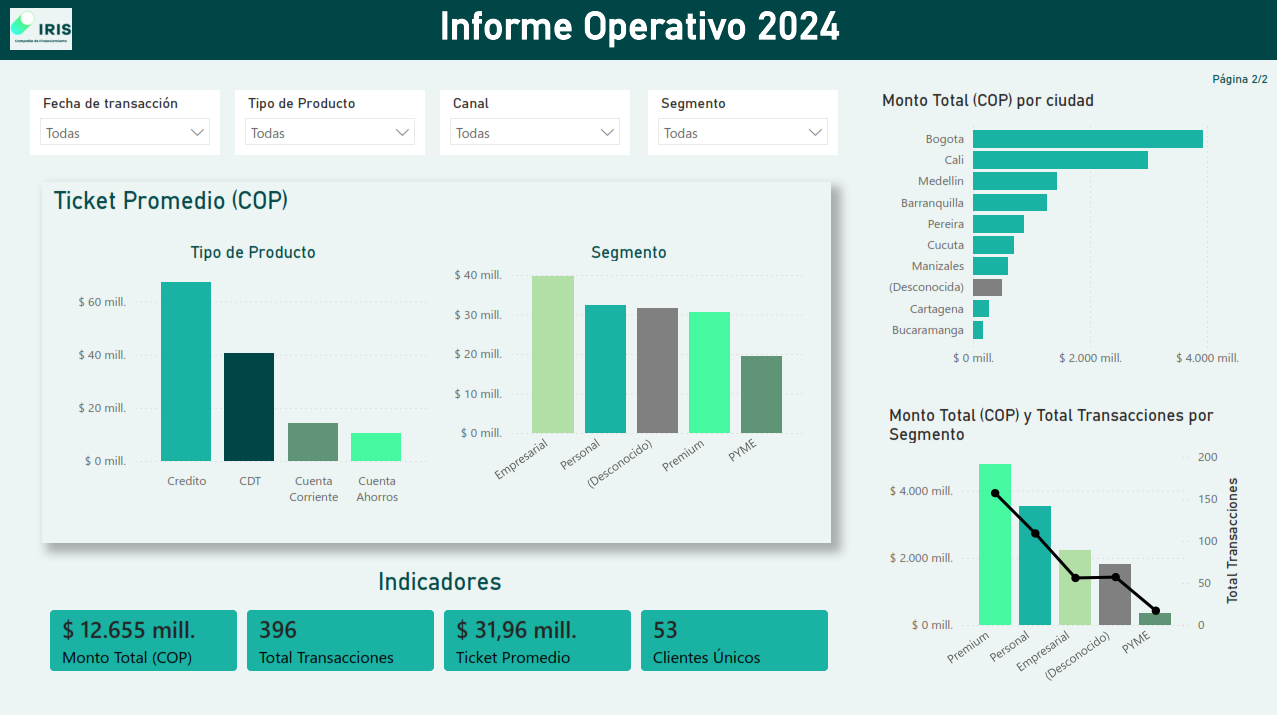

Layout of this report page (visuals, bound fields, positions):
{"tool":"powerbi","page":{"name":"Segmentación","canvas":[1280,720],"ordinal":1},"visuals":[{"type":"textbox","box":[42,184,789,361],"z":0},{"type":"shape","box":[82,0,1198,62],"z":1000},{"type":"image","box":[0,0,82,62],"z":2000},{"type":"textbox","box":[0,0,1280,65.7],"z":3000},{"type":"slicer","fields":{"Values":["consolidado.fecha.Variación.Jerarquía de fechas.Mes","consolidado.fecha.Variación.Jerarquía de fechas.Día"]},"box":[30,92,190,65],"z":4000},{"type":"slicer","fields":{"Values":["consolidado.tipo_producto"]},"box":[235,92,190,65],"z":5000},{"type":"slicer","fields":{"Values":["consolidado.canal"]},"box":[440,92,190,65],"z":6000},{"type":"slicer","fields":{"Values":["consolidado.segmento"]},"box":[648,92,190,65],"z":7000},{"type":"cardVisual","title":"Indicadores","fields":{"Data":["_Medidas.Monto Total (COP)","_Medidas.Total Transacciones","_Medidas.Ticket Promedio","_Medidas.Clientes Únicos"]},"box":[30,570,820,123],"z":8000},{"type":"clusteredColumnChart","title":"Segmento","fields":{"Category":["consolidado.segmento"],"Y":["_Medidas.Ticket Promedio"]},"box":[449,244,360,270],"z":9000},{"type":"clusteredColumnChart","title":"Tipo de Producto","fields":{"Category":["consolidado.tipo_producto"],"Y":["_Medidas.Ticket Promedio"]},"box":[73,244,360,270],"z":10000},{"type":"textbox","box":[1178,66,95,33],"z":11000},{"type":"lineStackedColumnComboChart","title":"Monto Total (COP) y Total Transacciones por Segmento","fields":{"Category":["consolidado.segmento"],"Y":["_Medidas.Monto Total (COP)"],"Y2":["_Medidas.Total Transacciones"]},"box":[884,407,360,299],"z":12000},{"type":"clusteredBarChart","fields":{"Category":["consolidado.ciudad"],"Y":["_Medidas.Monto Total (COP)"]},"box":[877,92,367,286],"z":13000}]}

Visuals, with their boxes in screenshot pixels (x1, y1, x2, y2), scaled from the page's 1280x720 canvas onto the 1277x715 screenshot:
textbox: region(42, 183, 829, 541)
shape: region(82, 0, 1276, 62)
image: region(0, 0, 82, 62)
textbox: region(0, 0, 1276, 65)
slicer - consolidado.fecha.Variación.Jerarquía de fechas.Mes x consolidado.fecha.Variación.Jerarquía de fechas.Día: region(30, 91, 219, 156)
slicer - consolidado.tipo_producto: region(234, 91, 424, 156)
slicer - consolidado.canal: region(439, 91, 629, 156)
slicer - consolidado.segmento: region(646, 91, 836, 156)
"Indicadores" cardVisual: region(30, 566, 848, 688)
"Segmento" clusteredColumnChart: region(448, 242, 807, 510)
"Tipo de Producto" clusteredColumnChart: region(73, 242, 432, 510)
textbox: region(1175, 66, 1270, 98)
"Monto Total (COP) y Total Transacciones por Segmento" lineStackedColumnComboChart: region(882, 404, 1241, 701)
clusteredBarChart - consolidado.ciudad x _Medidas.Monto Total (COP): region(875, 91, 1241, 375)
